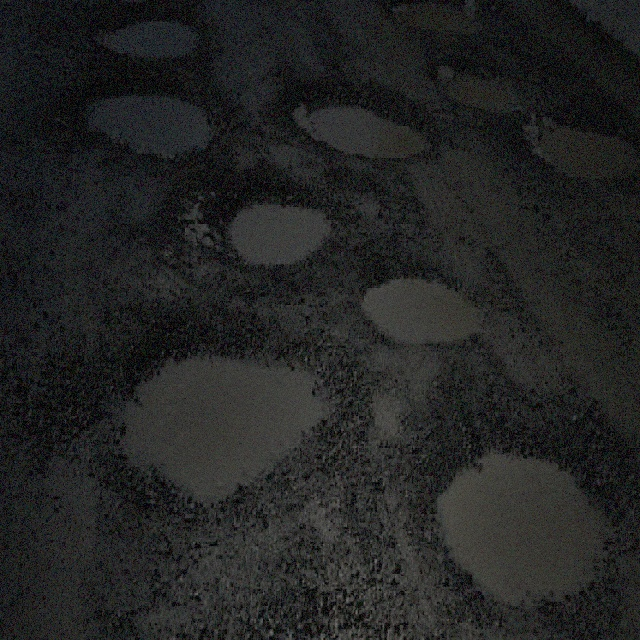pothole: (101, 322, 346, 514), (421, 431, 616, 612), (73, 71, 226, 162), (283, 73, 435, 162), (353, 260, 482, 346), (220, 179, 331, 267), (526, 111, 639, 183), (88, 8, 203, 58), (438, 62, 533, 115), (383, 0, 488, 38)
